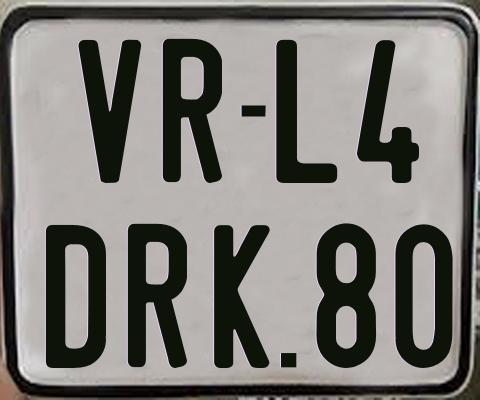0: (394, 222, 454, 372)
4: (357, 38, 425, 182)
8: (315, 221, 379, 372)
D: (44, 225, 106, 372)
K: (212, 224, 274, 372)
L: (273, 39, 339, 187)
R: (125, 221, 189, 370), (161, 36, 225, 184)
V: (77, 38, 140, 181)
